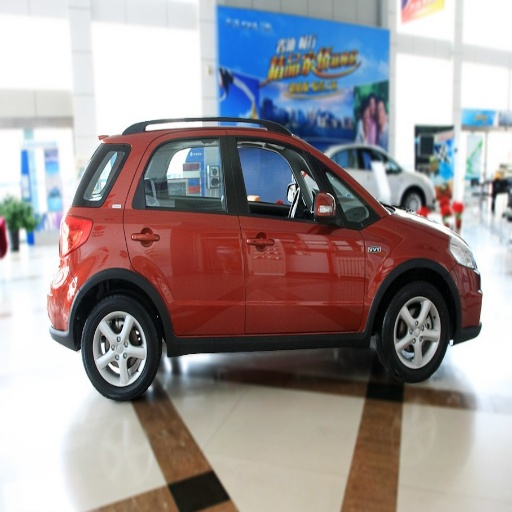back_right_door: (125, 131, 244, 333)
front_right_door: (231, 131, 370, 331)
